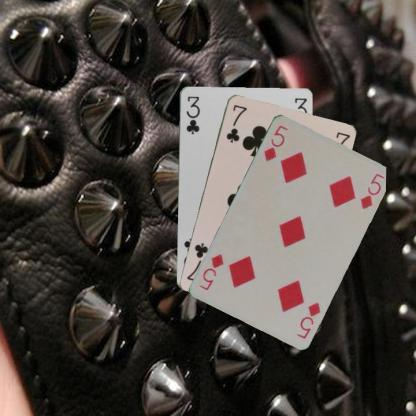3c: (183, 94, 201, 135)
5d: (293, 298, 322, 340), (261, 122, 290, 162)
7c: (223, 102, 248, 144)
